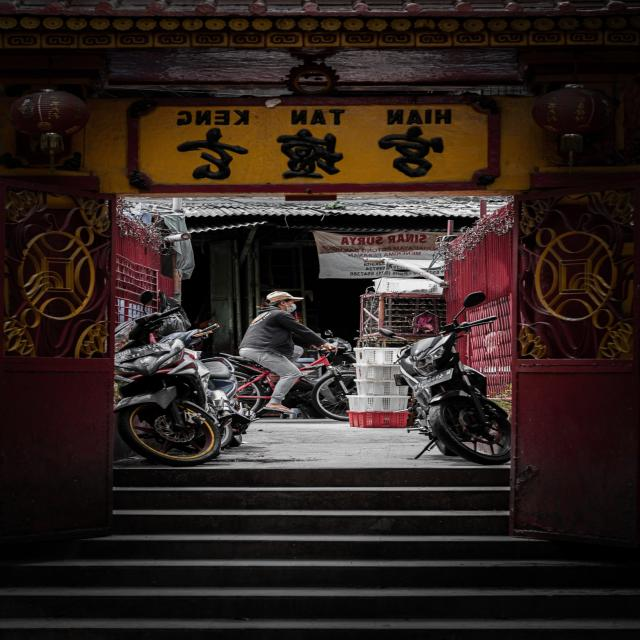adult: (238, 291, 336, 411)
